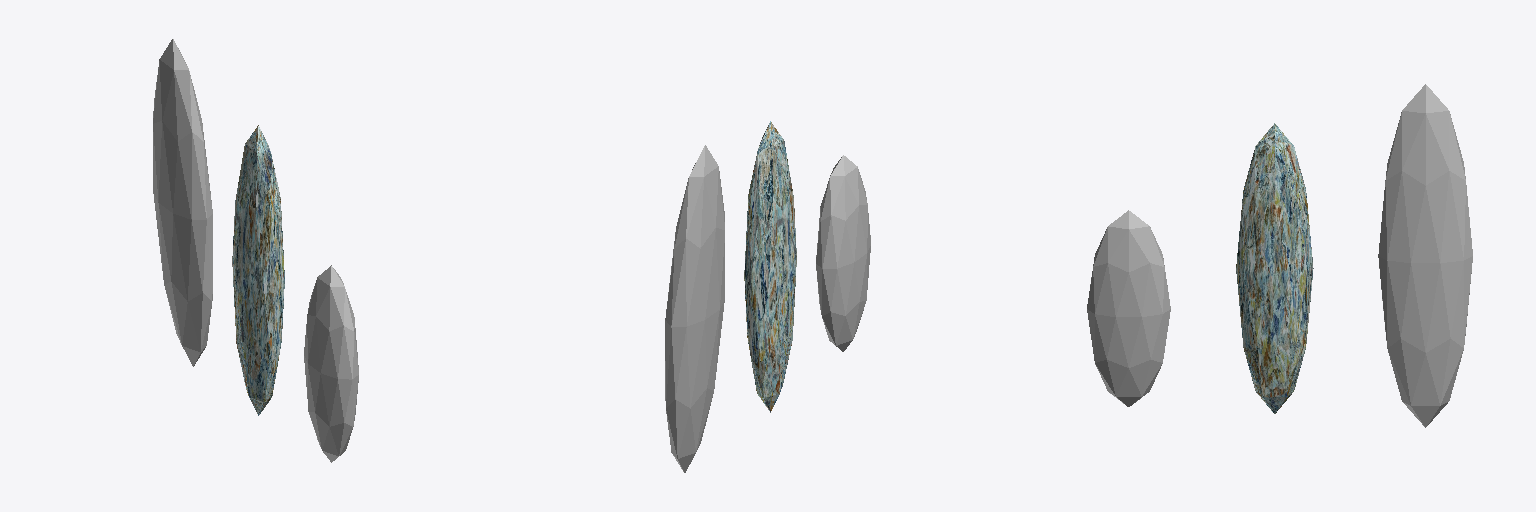
The picture shows the model from 3 angles: view 1: azimuth 30°, elevation 25°; view 2: azimuth 150°, elevation 25°; view 3: azimuth 270°, elevation 25°; orthographic projection.
Visible parts, largest first — view 1: Icosphere.002, Icosphere.001, Icosphere; view 2: Icosphere.002, Icosphere.001, Icosphere; view 3: Icosphere.002, Icosphere.001, Icosphere.
Part boxes in pixels (left/top/right/bottom): Icosphere.002: left=153, top=39, right=212, bottom=366; Icosphere.001: left=232, top=125, right=284, bottom=415; Icosphere: left=304, top=265, right=358, bottom=462; Icosphere.002: left=665, top=145, right=724, bottom=472; Icosphere.001: left=744, top=121, right=796, bottom=412; Icosphere: left=816, top=155, right=870, bottom=351; Icosphere.002: left=1378, top=84, right=1472, bottom=427; Icosphere.001: left=1236, top=123, right=1313, bottom=413; Icosphere: left=1087, top=210, right=1170, bottom=406.
Size of the model in its own units: 0.4414 by 3.39 by 3.54.
3 materials, 1 textured.